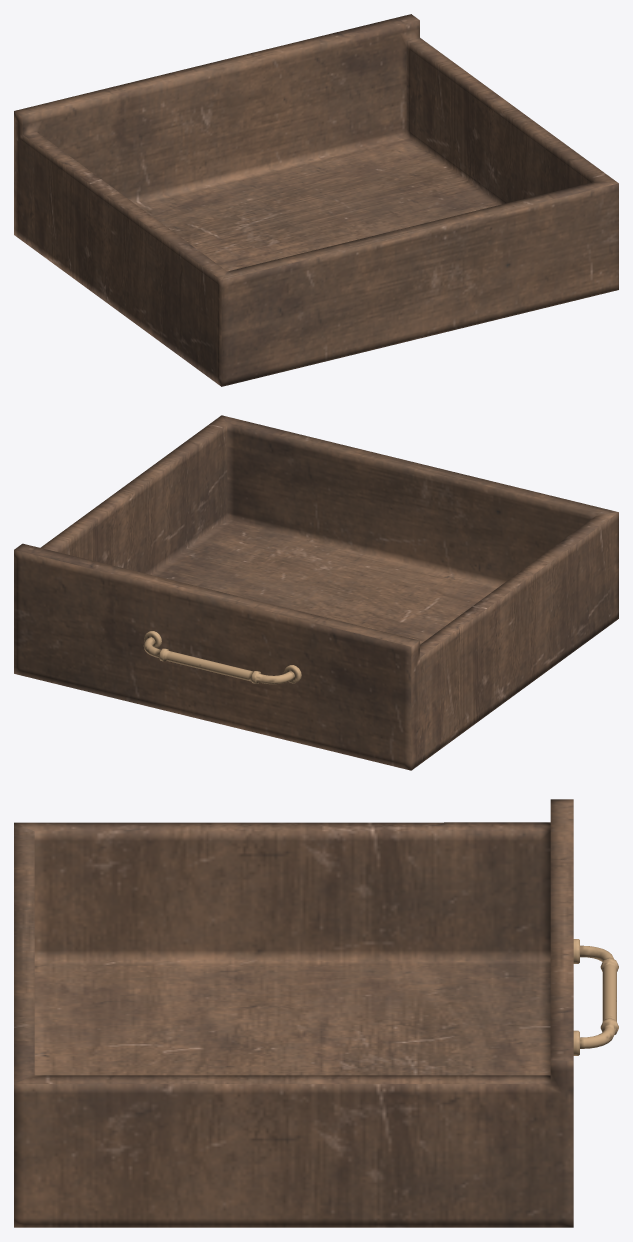
The model's file is SM_Locker01Drawer01_1_LOD0.glb.
3 renders of one model, top to bottom at view 1: azimuth 30°, elevation 25°; view 2: azimuth 150°, elevation 25°; view 3: azimuth 270°, elevation 25°, orthographic. The views are drawn at different scales.
Visible parts, largest first — view 1: SM_Locker01Drawer01_1_LOD0; view 2: SM_Locker01Drawer01_1_LOD0; view 3: SM_Locker01Drawer01_1_LOD0.
Boxes of the visible parts, x1,y1,x2,y2 form: SM_Locker01Drawer01_1_LOD0: [14, 14, 618, 386]; SM_Locker01Drawer01_1_LOD0: [14, 415, 618, 770]; SM_Locker01Drawer01_1_LOD0: [14, 799, 618, 1227].
Bounding box in the file's own units: 0.595 × 0.1773 × 0.582.
Materials: 1 (1 with a texture image).
